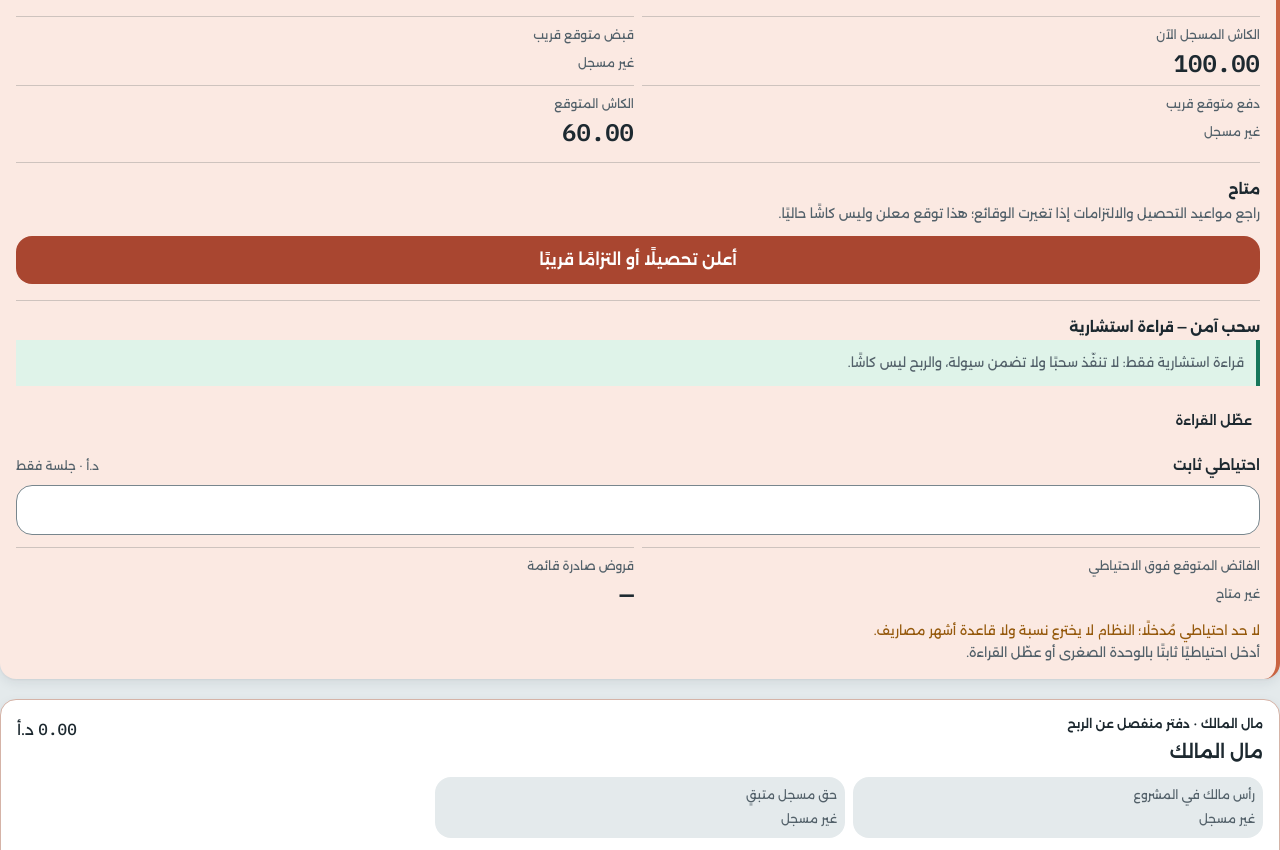
FIN-004 (WS-176 — Wave 4): advisory safe-withdrawal reading on the cash decision › respects the owner's explicit disable — no number, honest reason, no coercion
The width and height of the screenshot is (1280, 850).
(page scrolled)
Click the button "عطّل القراءة" at [1214, 420], box [1168,398,1260,442]
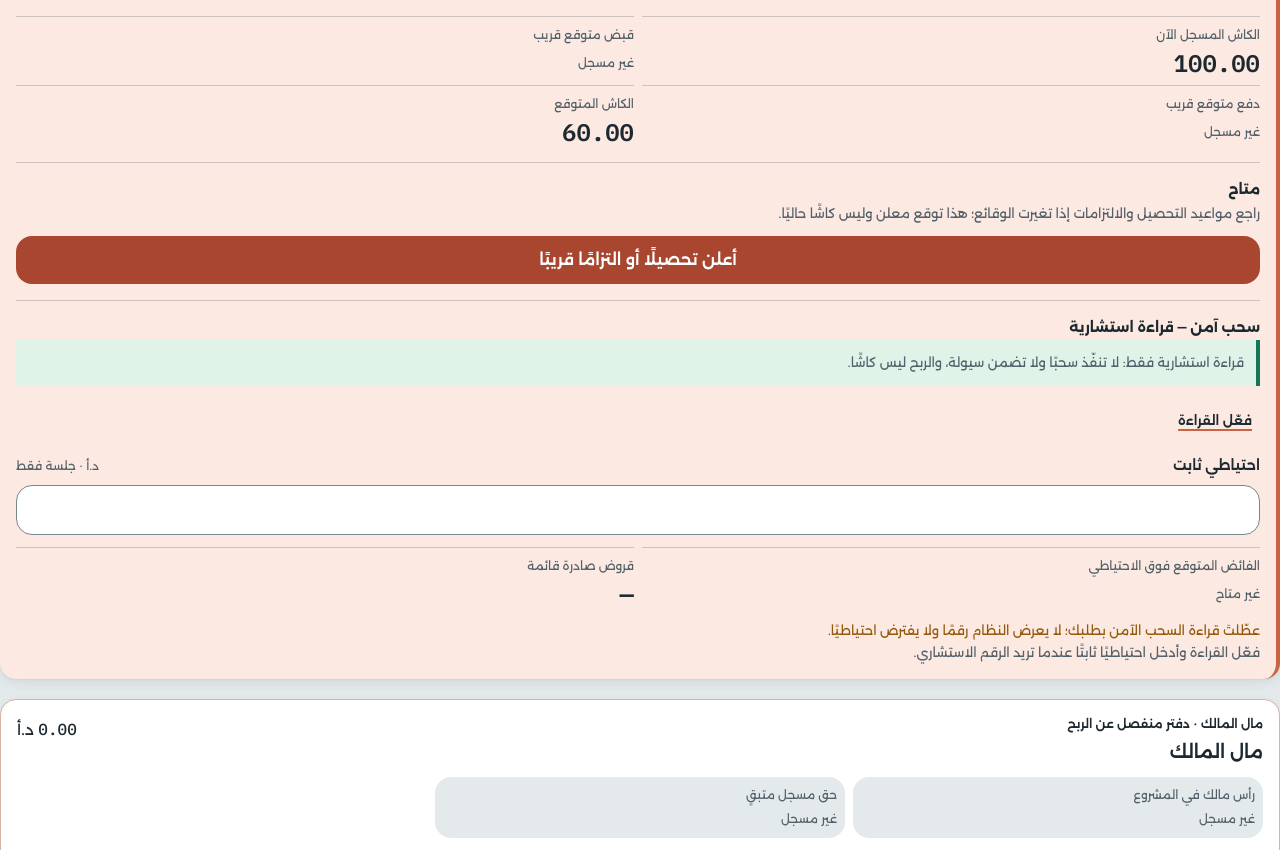
Result: the text "عطّلتَ قراءة السحب الآمن بطلبك؛ لا يعرض النظام رقمًا ولا يفترض احتياطيًا." is shown at [828,622,1260,638]
Result: the button "فعّل القراءة" is shown at [1170,398,1260,442]
